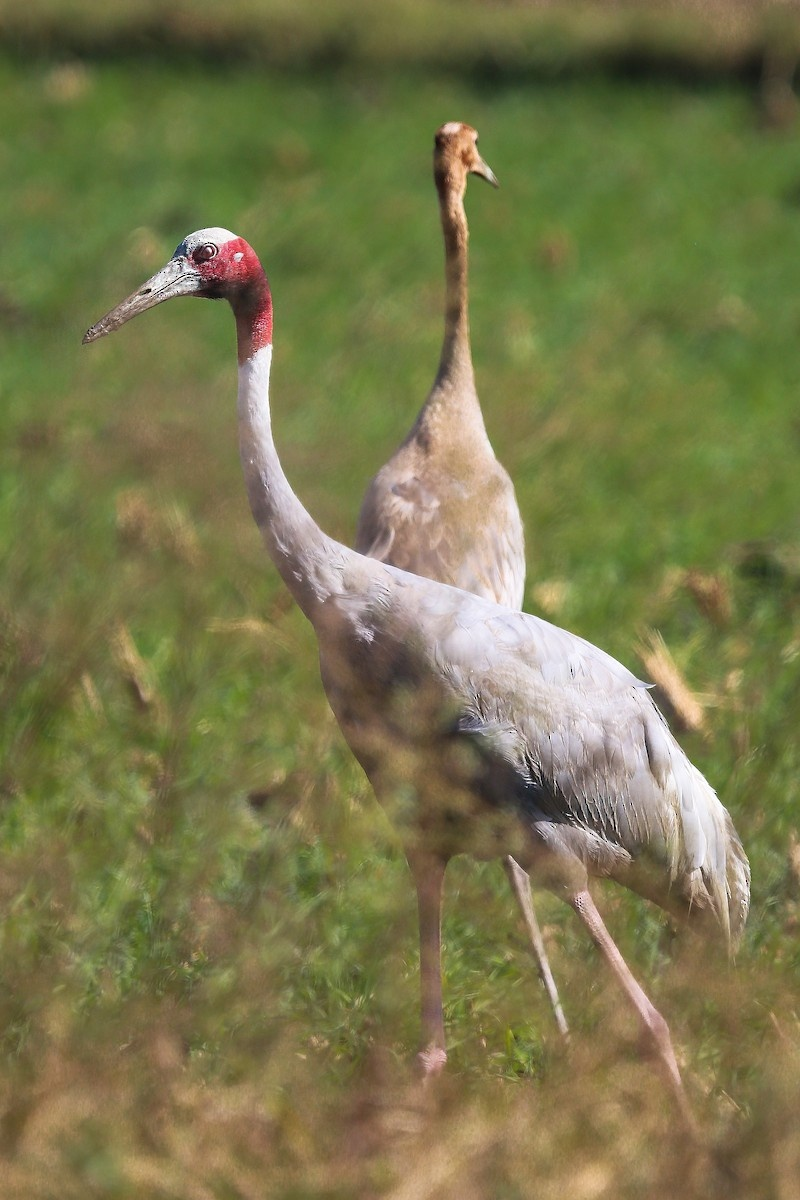crane: (79, 220, 758, 1088), (362, 114, 540, 597)
